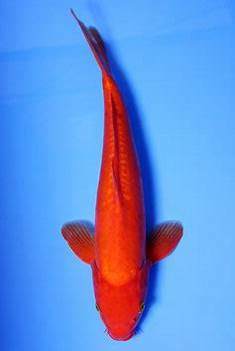red: (61, 8, 183, 342)
